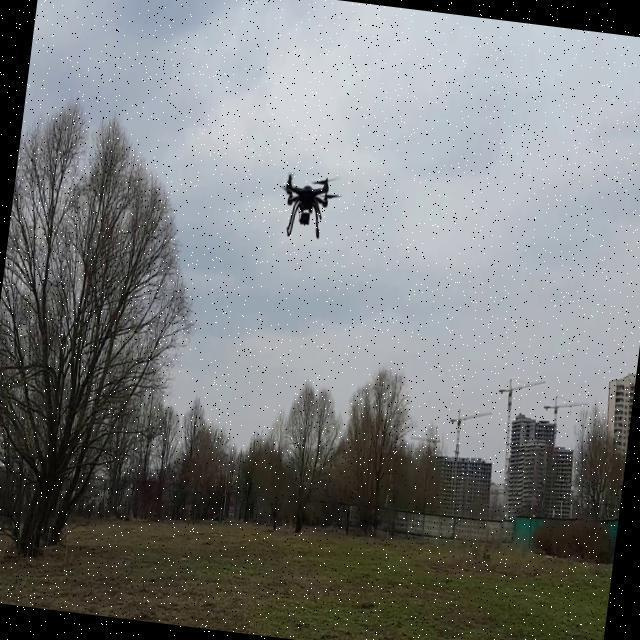Drons: (264, 162, 348, 246)
